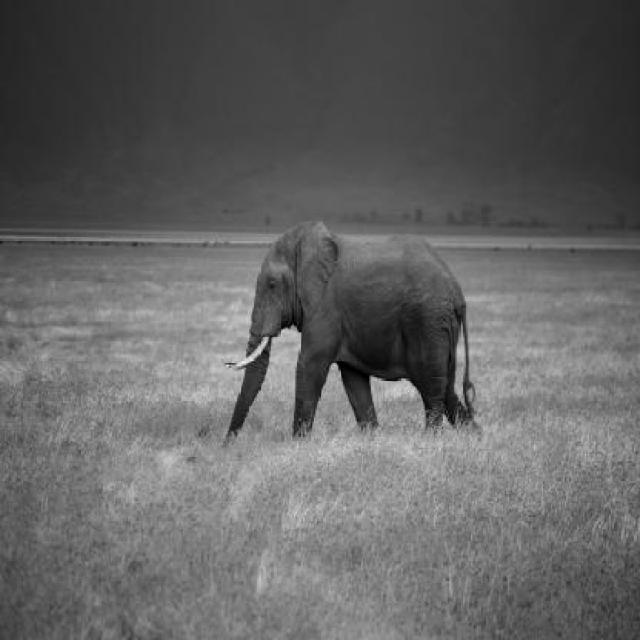Elephant: (220, 216, 492, 444)
